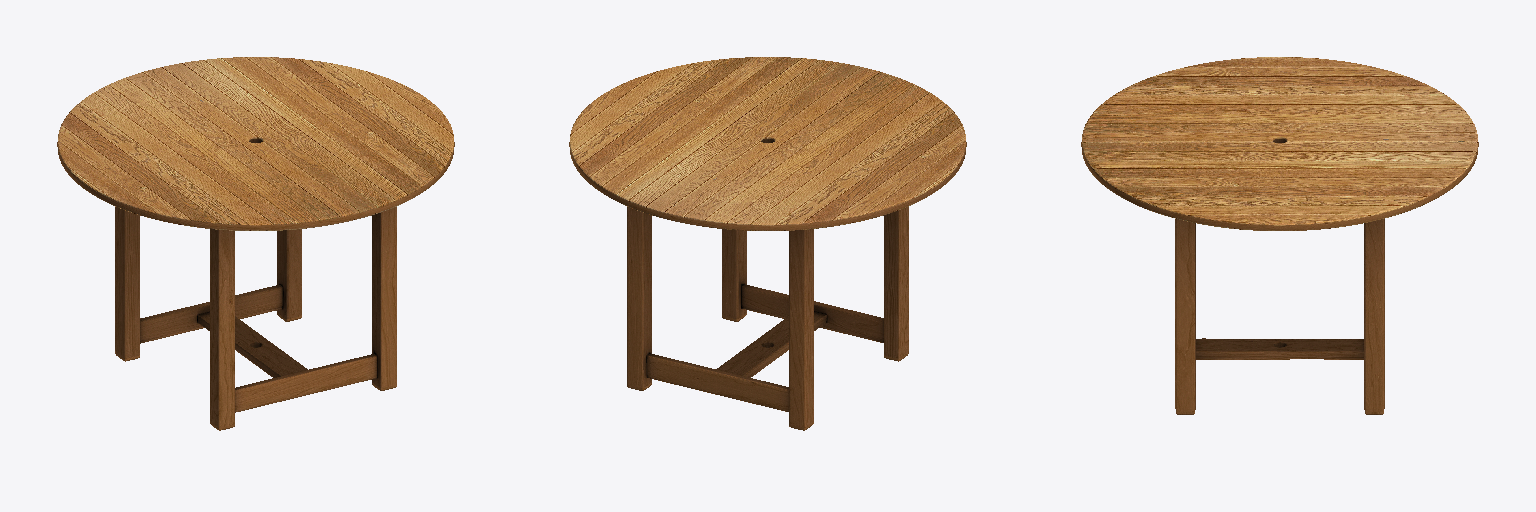
3 renders of one model, left to right at view 1: azimuth 30°, elevation 25°; view 2: azimuth 150°, elevation 25°; view 3: azimuth 270°, elevation 25°, orthographic.
Parts seen in each view (by area): view 1: 10241_Outdoor_table_w_hole_for_umbrella_v1_L3; view 2: 10241_Outdoor_table_w_hole_for_umbrella_v1_L3; view 3: 10241_Outdoor_table_w_hole_for_umbrella_v1_L3.
Boxes of the visible parts, box(x1,y1,x2,y2) form: 10241_Outdoor_table_w_hole_for_umbrella_v1_L3: box(57, 57, 454, 430); 10241_Outdoor_table_w_hole_for_umbrella_v1_L3: box(569, 57, 966, 430); 10241_Outdoor_table_w_hole_for_umbrella_v1_L3: box(1081, 57, 1478, 414).
Size of the model in its own units: 1.53 by 0.9841 by 1.53.
Materials: 1 (1 with a texture image).